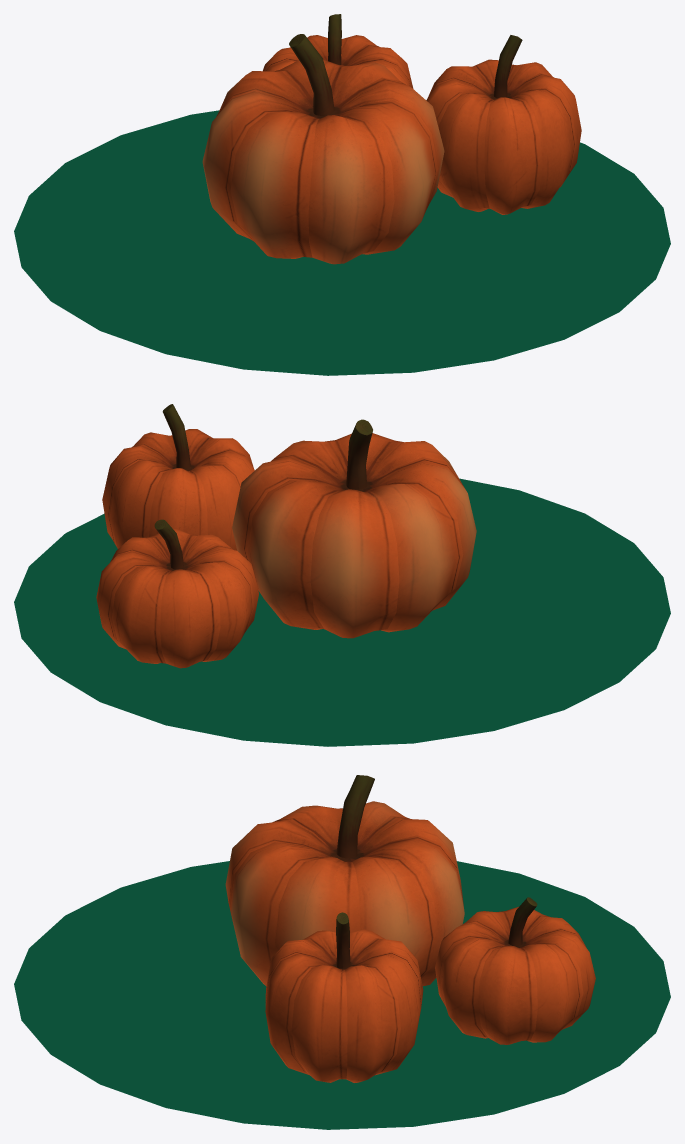
3 renders of one model, top to bottom at view 1: azimuth 30°, elevation 25°; view 2: azimuth 150°, elevation 25°; view 3: azimuth 270°, elevation 25°, orthographic.
Visible parts, largest first — view 1: pDisc1, Group2 (×3); view 2: pDisc1, Group2 (×3); view 3: pDisc1, Group2 (×3).
Part boxes in pixels (left/top/right/bottom): pDisc1: left=14, top=110, right=670, bottom=375; Group2 (×3): left=202, top=14, right=581, bottom=264; pDisc1: left=14, top=478, right=670, bottom=746; Group2 (×3): left=96, top=404, right=476, bottom=668; pDisc1: left=14, top=861, right=670, bottom=1129; Group2 (×3): left=225, top=775, right=595, bottom=1082.
Bounding box in the file's own units: 40.12 × 13.69 × 40.12.
Materials: 4 (4 with a texture image).
